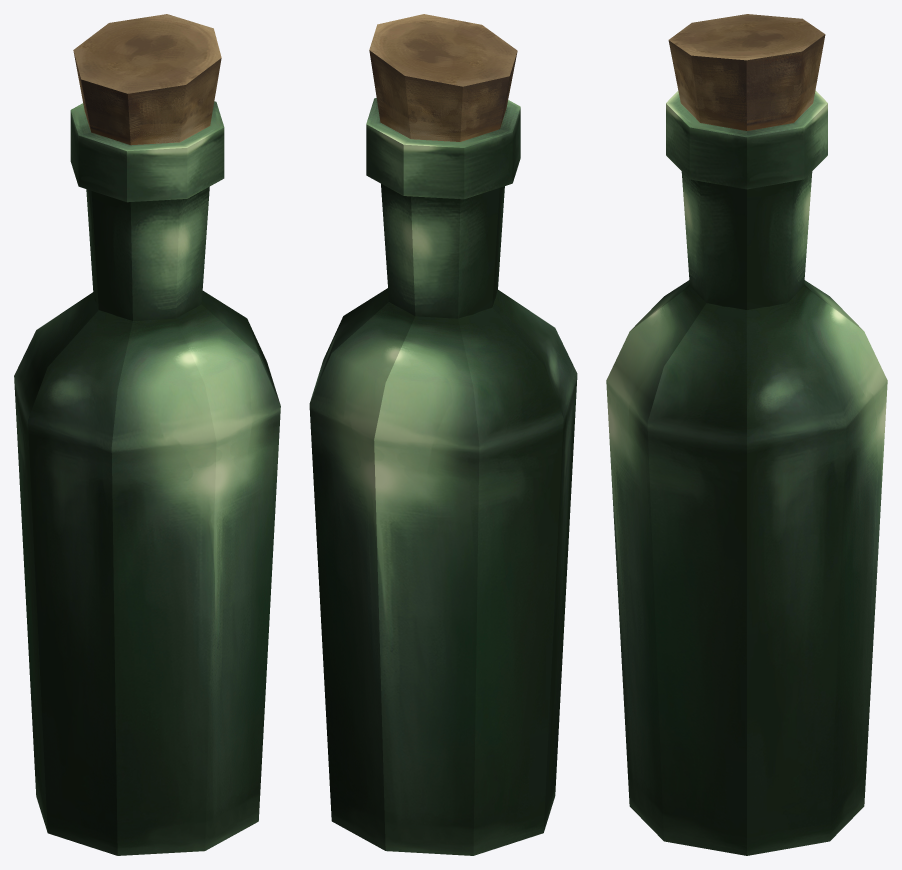
File: Bottle.obj
3 renders of one model, left to right at view 1: azimuth 30°, elevation 25°; view 2: azimuth 150°, elevation 25°; view 3: azimuth 270°, elevation 25°, orthographic.
Parts seen in each view (by area): view 1: pCylinder5; view 2: pCylinder5; view 3: pCylinder5.
Part boxes in pixels (x1,y1,x2,y2): pCylinder5: (14, 14, 280, 855); pCylinder5: (309, 14, 577, 855); pCylinder5: (606, 14, 887, 855).
Bounding box in the file's own units: 10.5 × 32.06 × 10.5.
